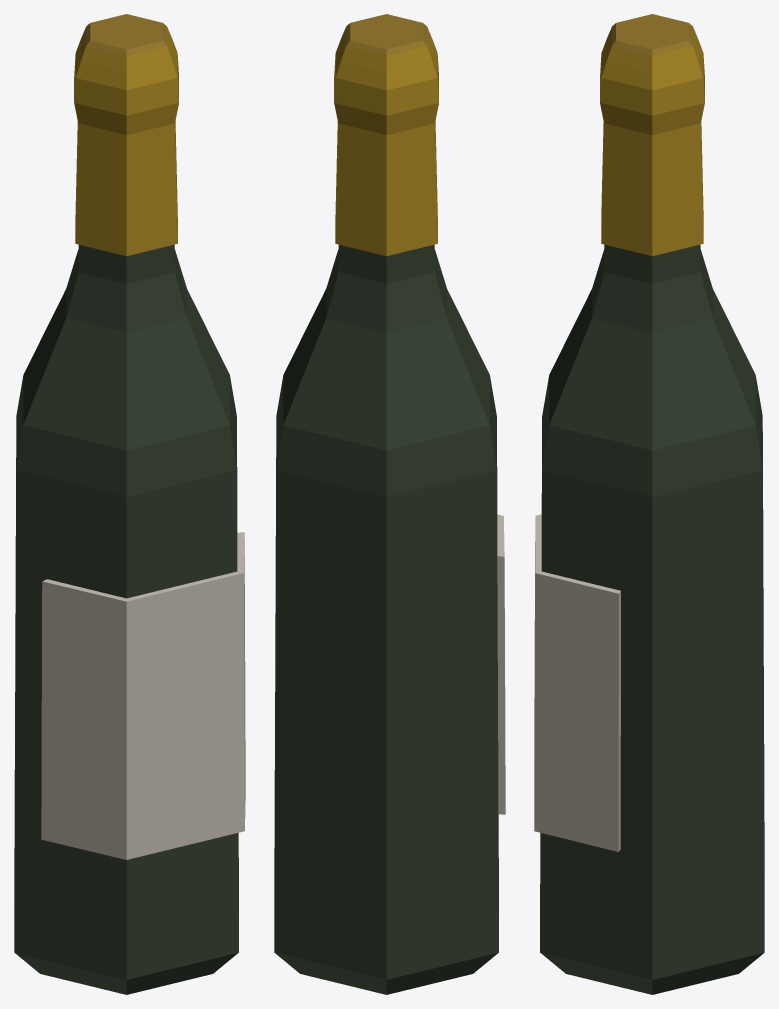
File: wine-bottle-75a822.glb
3 views of the same model, side by side, from view 1: azimuth 30°, elevation 25°; view 2: azimuth 150°, elevation 25°; view 3: azimuth 270°, elevation 25° (orthographic).
Parts seen in each view (by area): view 1: bottle; view 2: bottle; view 3: bottle.
Boxes of the visible parts, x1,y1,x2,y2 form: bottle: [14, 14, 245, 994]; bottle: [274, 14, 505, 994]; bottle: [534, 14, 764, 994].
Bounding box in the file's own units: 0.0766 × 0.3 × 0.0681.
